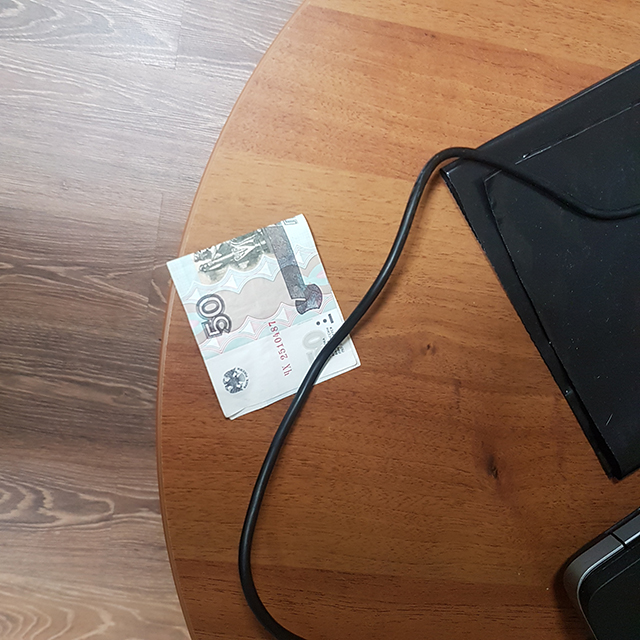banknotes: (167, 212, 361, 420)
